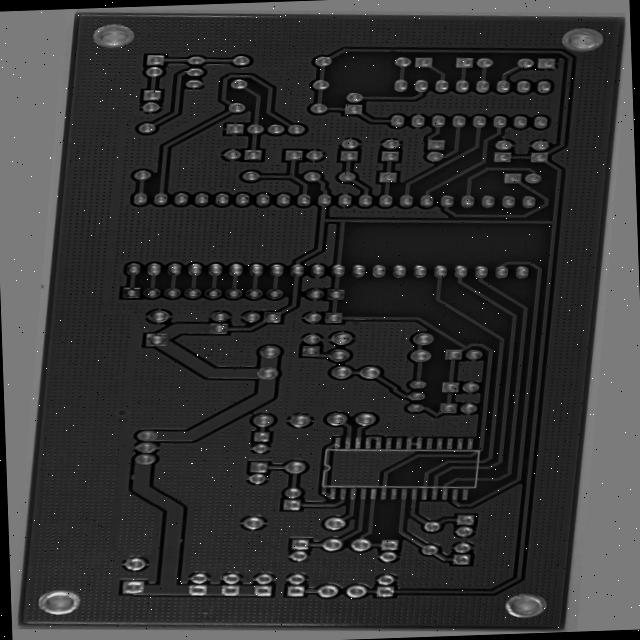spur: (178, 545, 200, 561), (121, 483, 140, 496)
